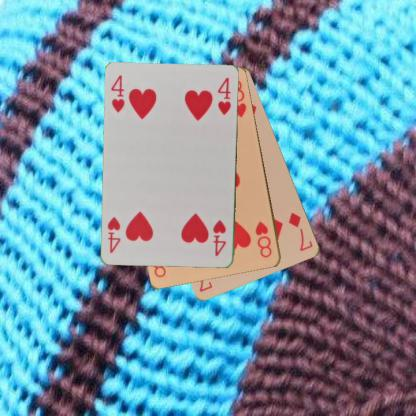4h: (210, 217, 228, 258), (108, 73, 126, 114)
7d: (286, 210, 314, 253)
8h: (252, 218, 274, 260)
